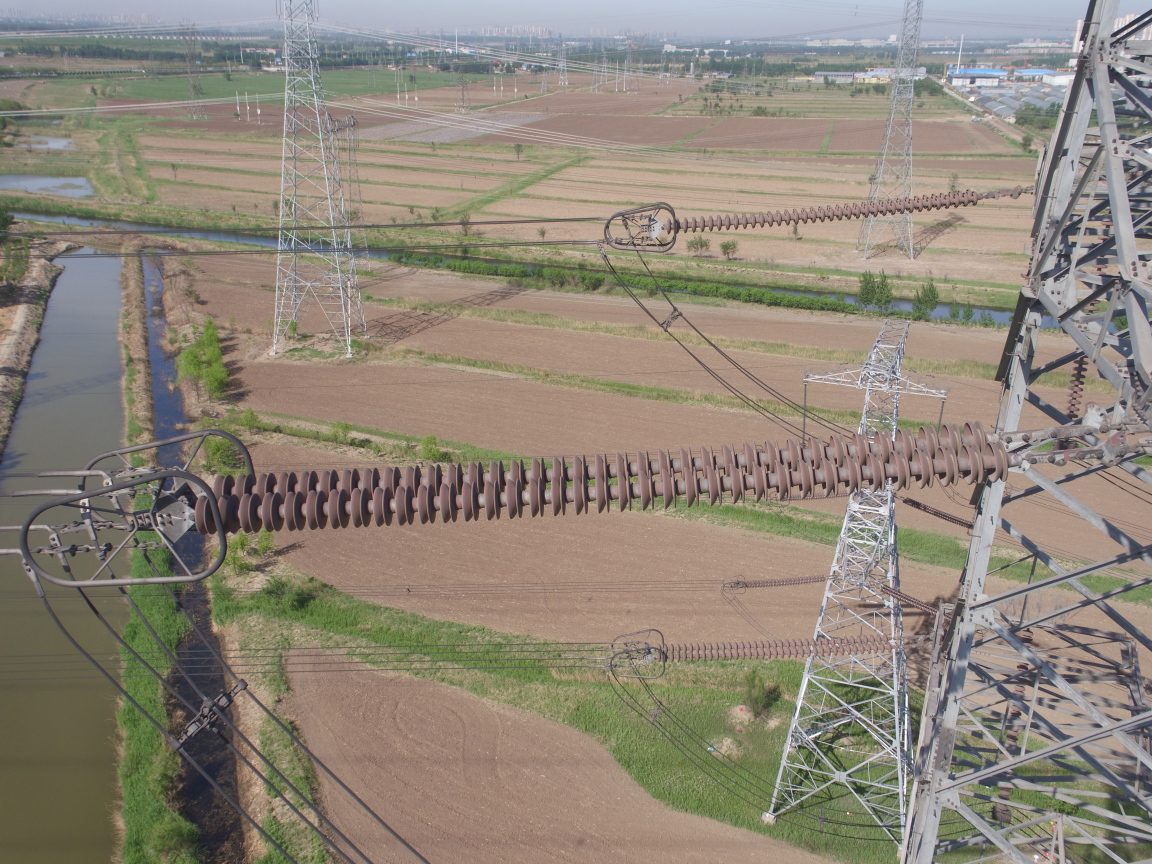insulator: (186, 417, 1060, 536), (659, 187, 1000, 238), (647, 630, 905, 667), (875, 580, 937, 615), (739, 572, 833, 590)
